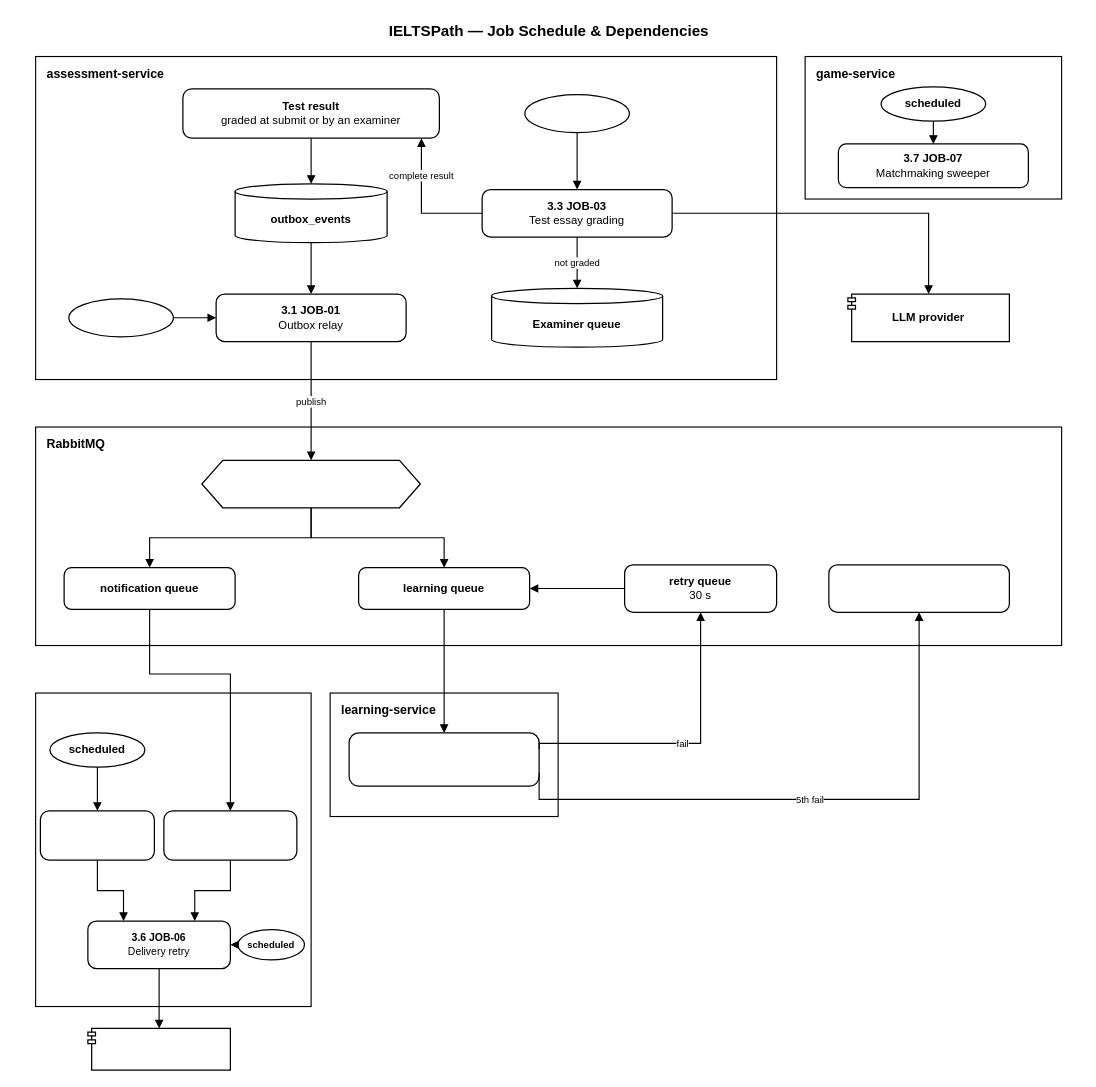
Some shapes in this 1096 by 1087 pixel diagram are drawn without their labels. The box of each missing label's shape, as (x1, y1, x2, y2) in pixels:
3.2 JOB-02 Apply test result: (348, 732, 539, 786)
3.4 JOB-04 Grading-done alert: (163, 810, 297, 860)
3.5 JOB-05 Study reminder: (39, 810, 155, 860)
assessment.events: (201, 459, 421, 508)
dead-letter queue after 5 tries: (828, 564, 1010, 612)
every 2 s: (68, 298, 174, 337)
every 5 s: (524, 93, 630, 133)
notification-service: (35, 692, 311, 1007)
Push / Email: (87, 1027, 231, 1070)
